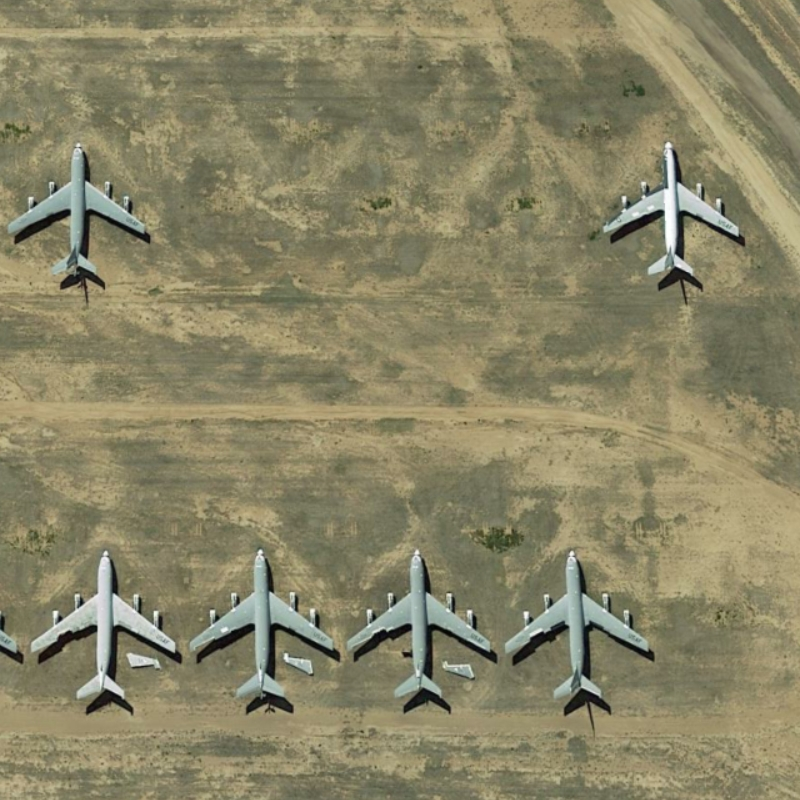A11: (28, 541, 180, 705), (598, 130, 746, 278)
A14: (348, 538, 498, 708), (184, 541, 338, 705), (504, 543, 655, 703), (3, 137, 154, 284)
